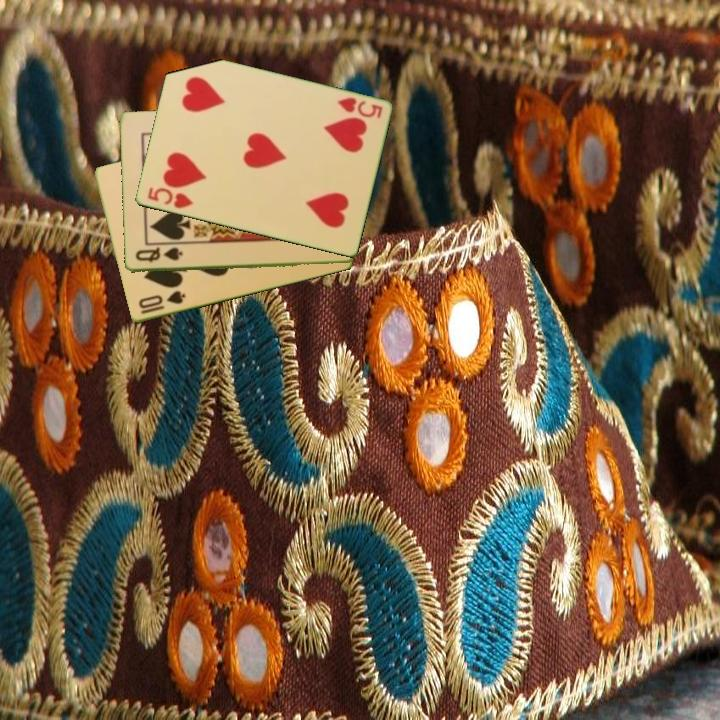10s: (135, 287, 188, 317)
5h: (144, 184, 196, 212), (334, 94, 385, 121)
Qs: (132, 245, 185, 266)
